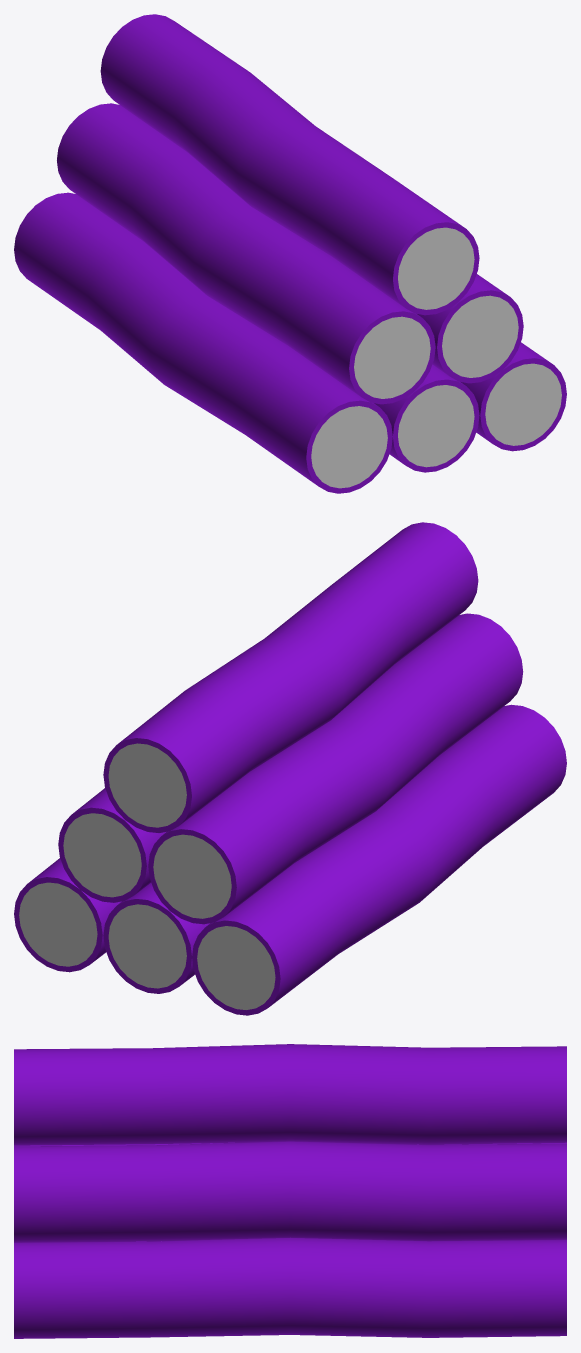
Rendered from Tree's.fbx.
The picture shows the model from 3 angles, top to bottom: view 1: azimuth 30°, elevation 25°; view 2: azimuth 150°, elevation 25°; view 3: azimuth 270°, elevation 25°; orthographic projection. The views are drawn at different scales.
Parts seen in each view (by area): view 1: Tree_s; view 2: Tree_s; view 3: Tree_s.
Part boxes in pixels (bbox=[...]): Tree_s: bbox=[14, 14, 566, 493]; Tree_s: bbox=[14, 522, 566, 1015]; Tree_s: bbox=[14, 1044, 566, 1338].
Size of the model in its own units: 110 by 95.67 by 200.
